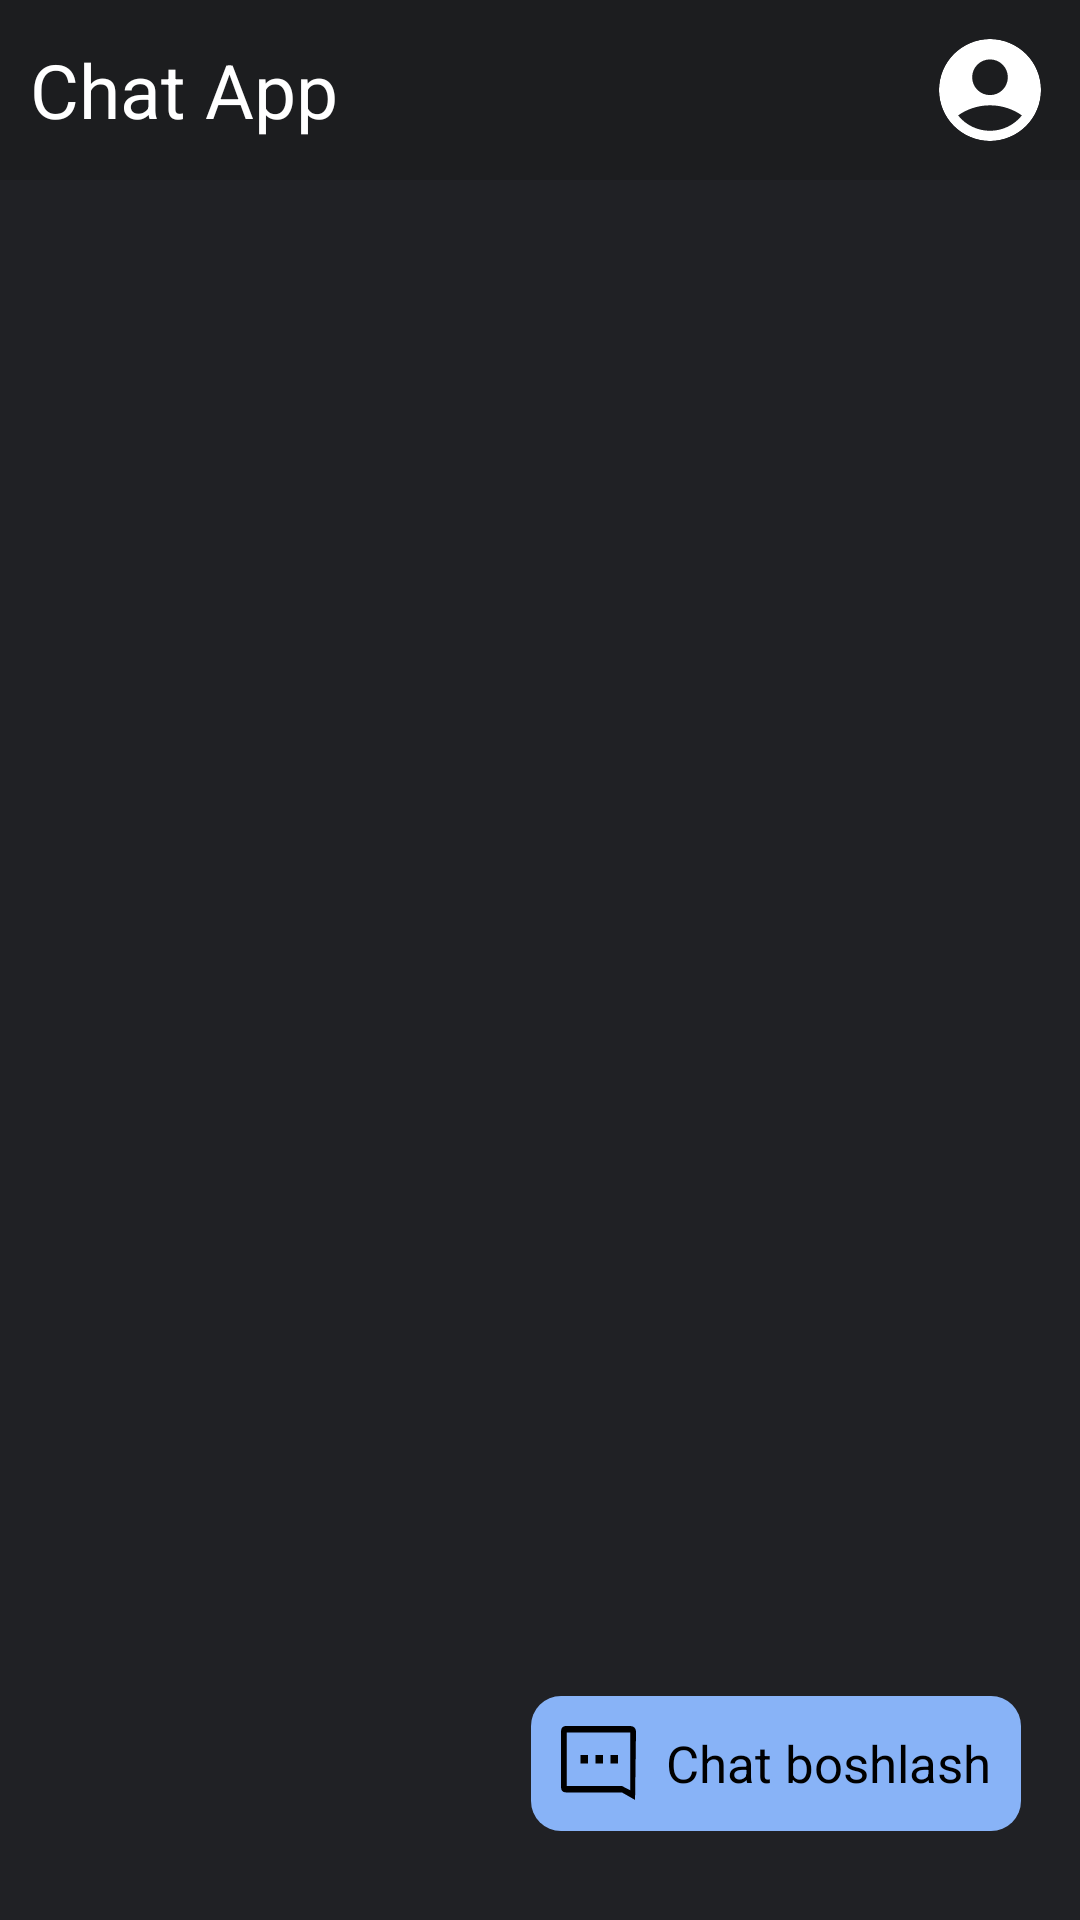

Locate icon controls on the screen. Image size 1080×1920, boxes as [x1, y1, x2, y2].
user: [939, 39, 1041, 141]
